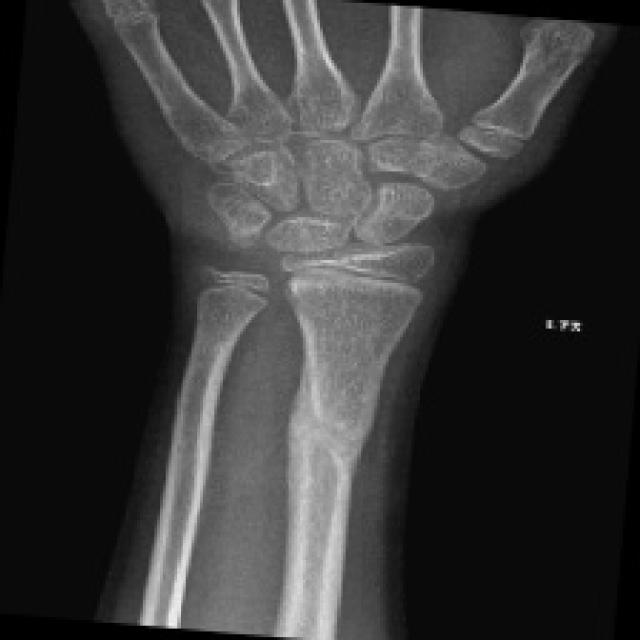fracture: (262, 369, 409, 520)
